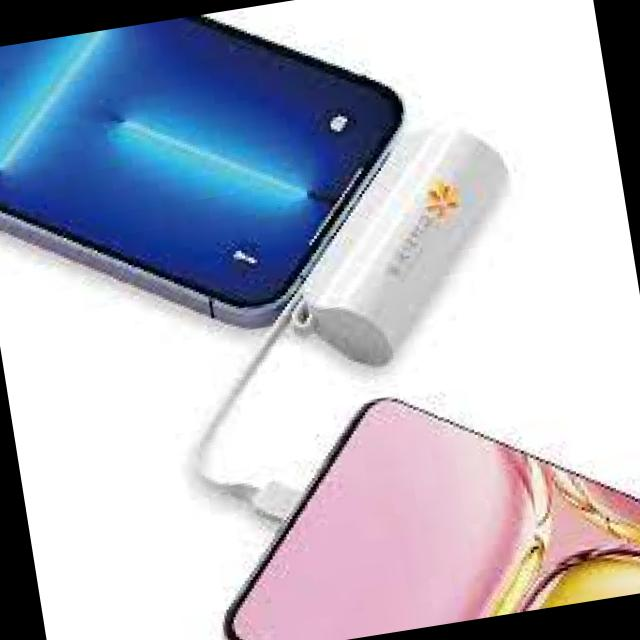power_bank: (274, 116, 535, 381)
